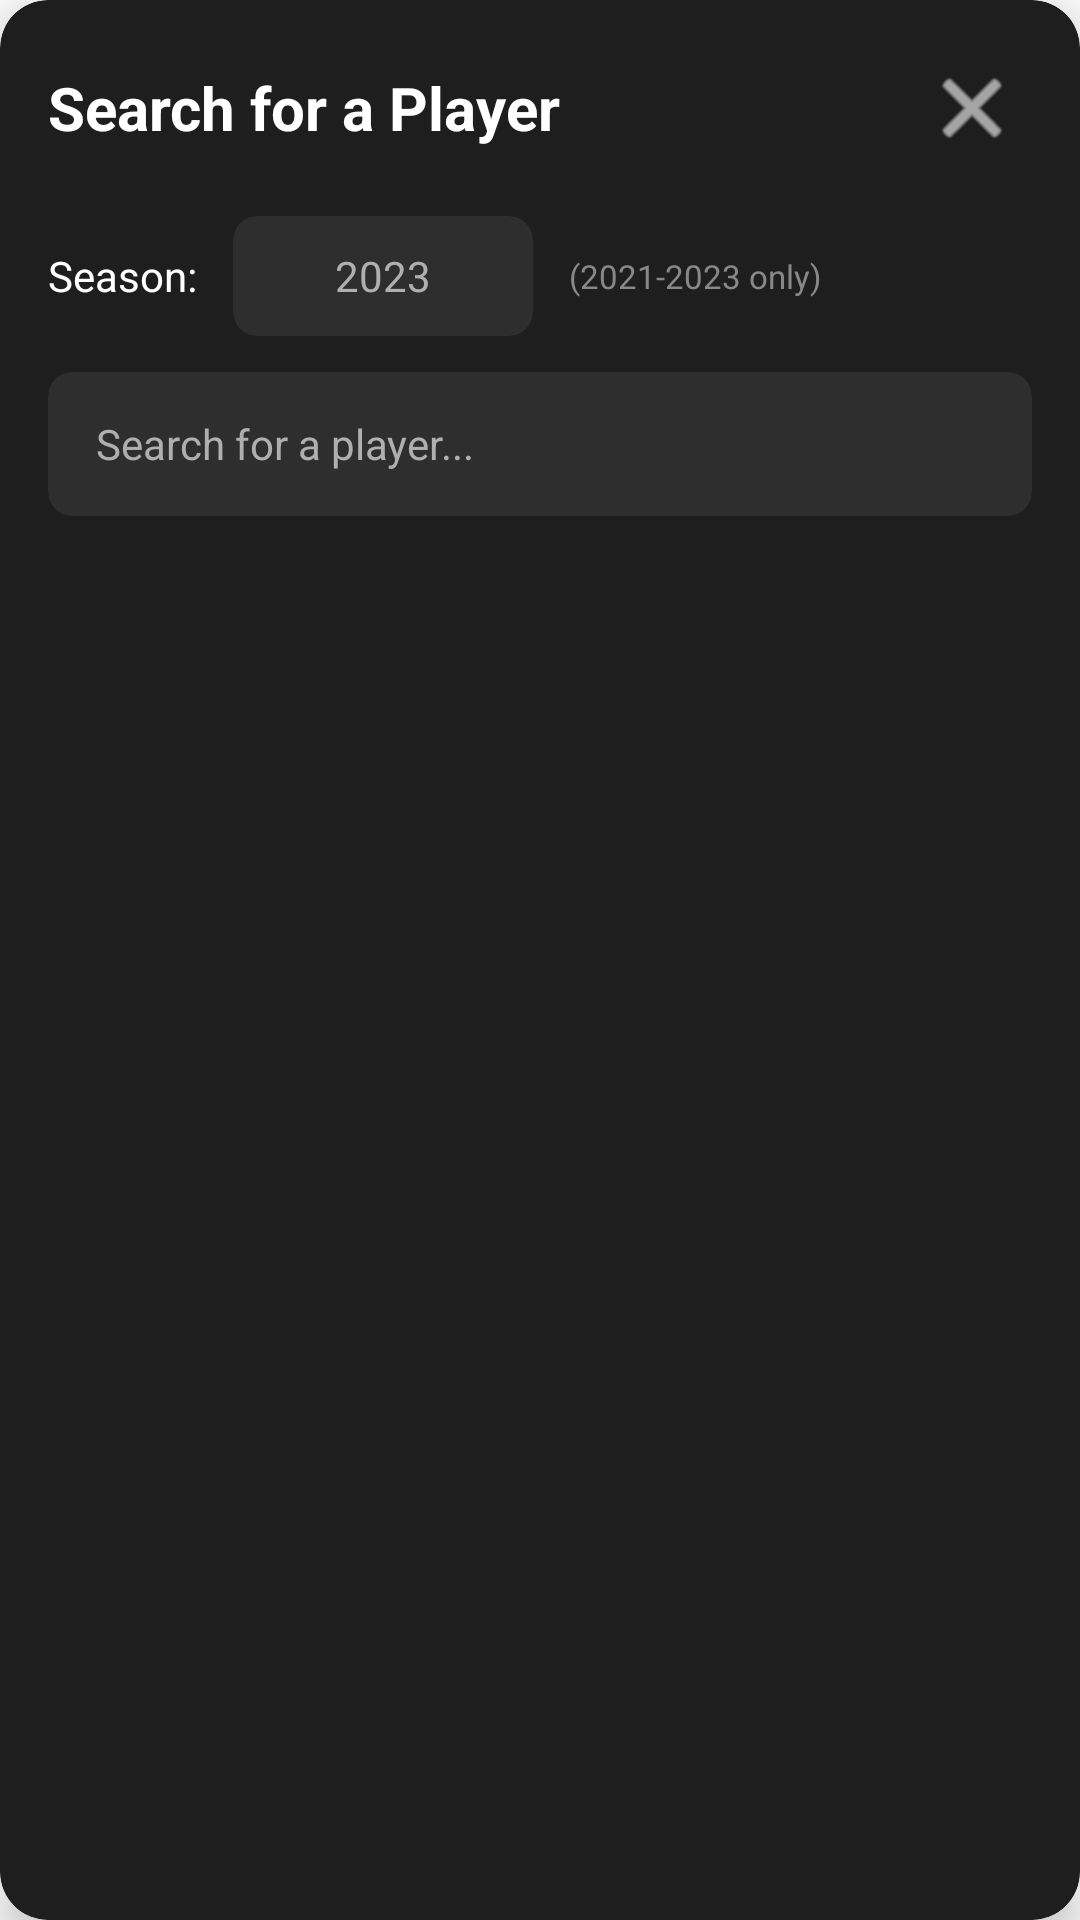

Named icons in this screenshot (1080*1920) and their bounding boxes, (x1, y1, x2, y2):
Close dialog: (942, 78, 1002, 138)
